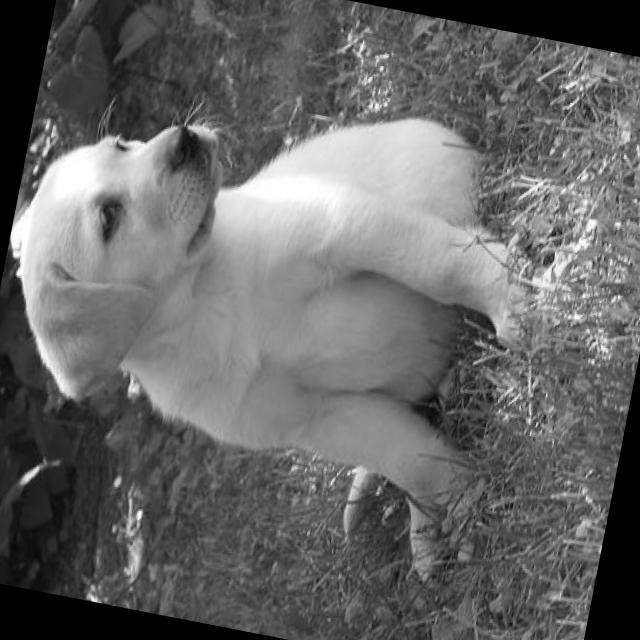sitting: (0, 18, 575, 596)
